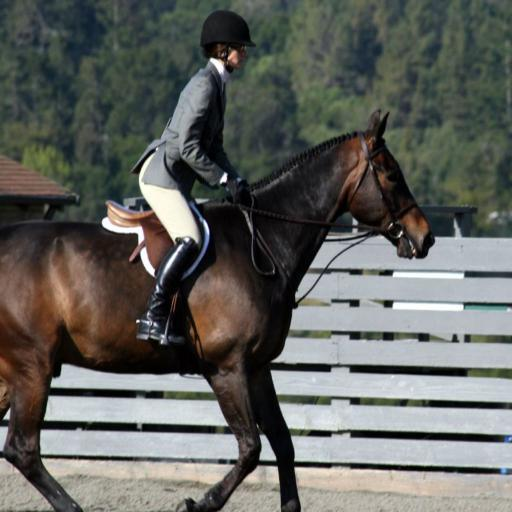horse: (2, 106, 436, 512)
